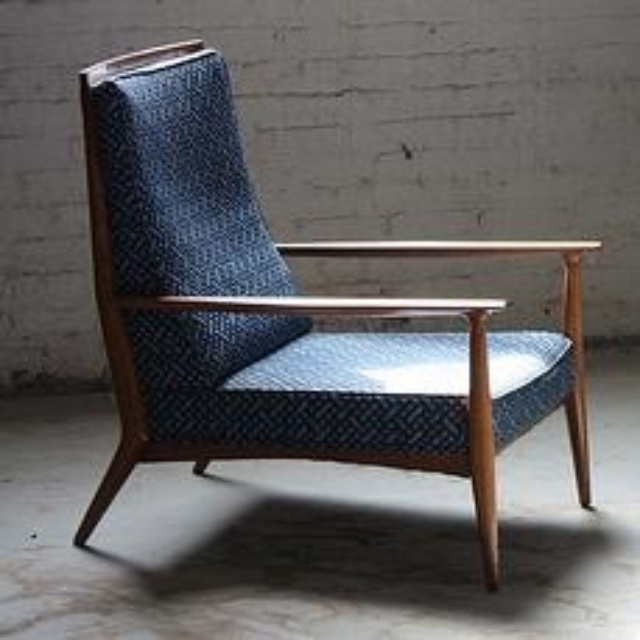obstacle: (75, 39, 587, 585)
